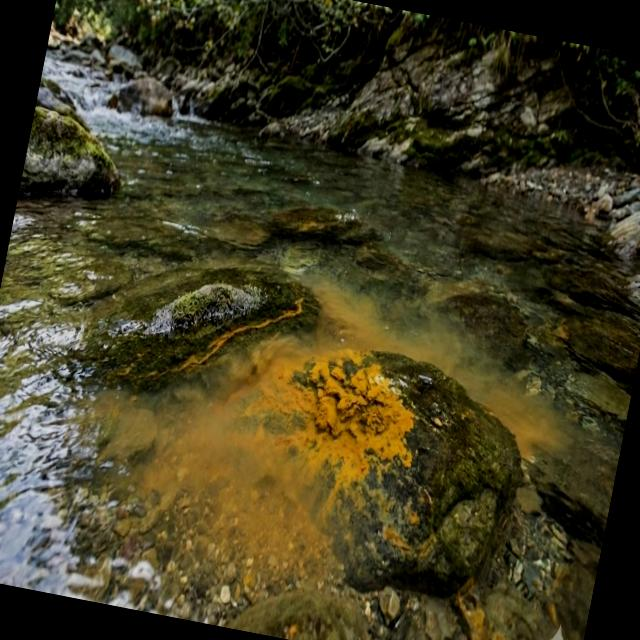yellow_boy: (135, 275, 565, 561)
